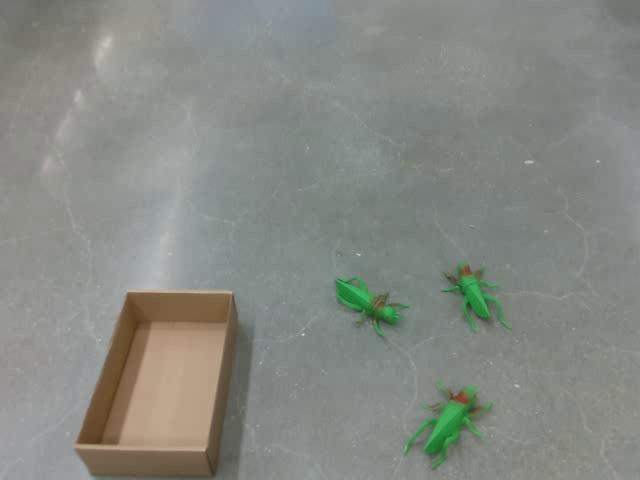box: (73, 288, 238, 477)
grasshopper: (402, 380, 493, 470), (440, 262, 511, 333), (333, 275, 409, 338)
